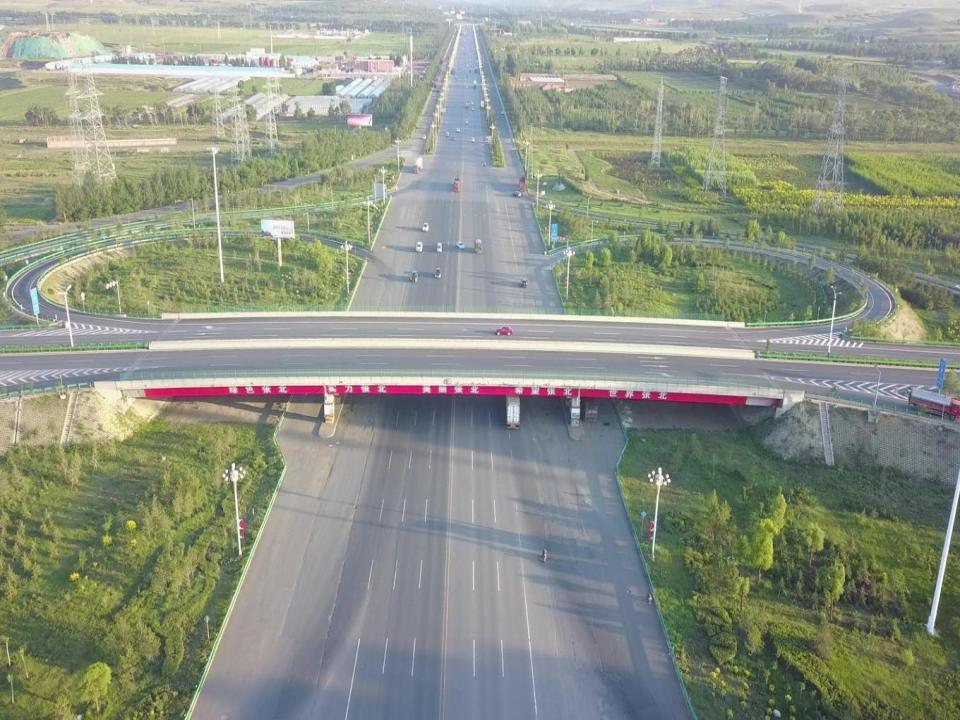car: (495, 326, 513, 336), (434, 267, 441, 278), (456, 242, 464, 249), (501, 110, 504, 114), (472, 106, 474, 111), (451, 137, 454, 140), (458, 82, 461, 85), (470, 102, 474, 104), (465, 84, 467, 88)
truck: (577, 388, 598, 422), (413, 157, 423, 174), (452, 174, 460, 192), (519, 175, 526, 192), (474, 239, 482, 252), (464, 100, 470, 108), (473, 80, 476, 88)
van: (410, 270, 418, 282), (415, 241, 423, 252), (422, 222, 429, 231), (512, 191, 521, 198), (521, 278, 527, 288), (436, 242, 442, 252), (446, 132, 450, 136), (422, 135, 426, 139), (457, 128, 460, 132), (472, 138, 475, 142), (465, 120, 468, 124)
